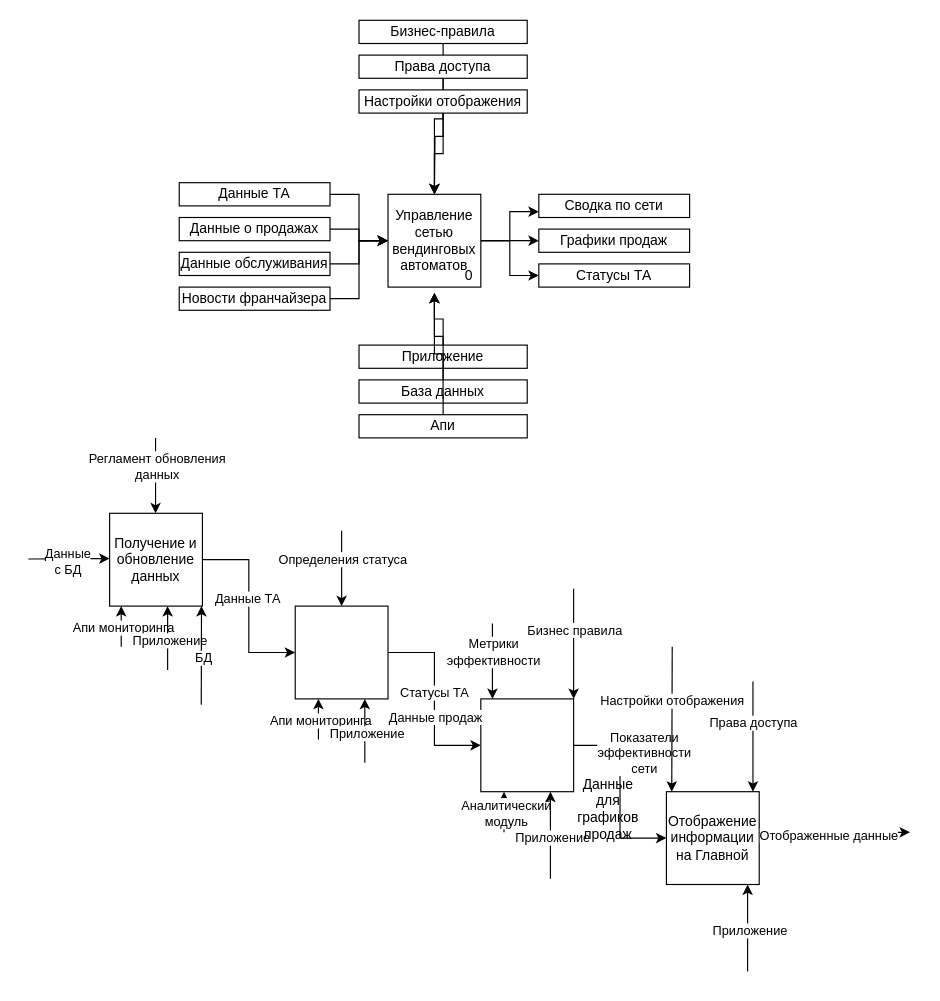
Image size: 940x1001. Some labels were removed from this diagram. Here are the shapes that lost their labels. From the top down, the centre of each, then its label:
(x=341, y=652): Мониторинг состояния ТА
(x=527, y=745): Анализ и формирование показателей
